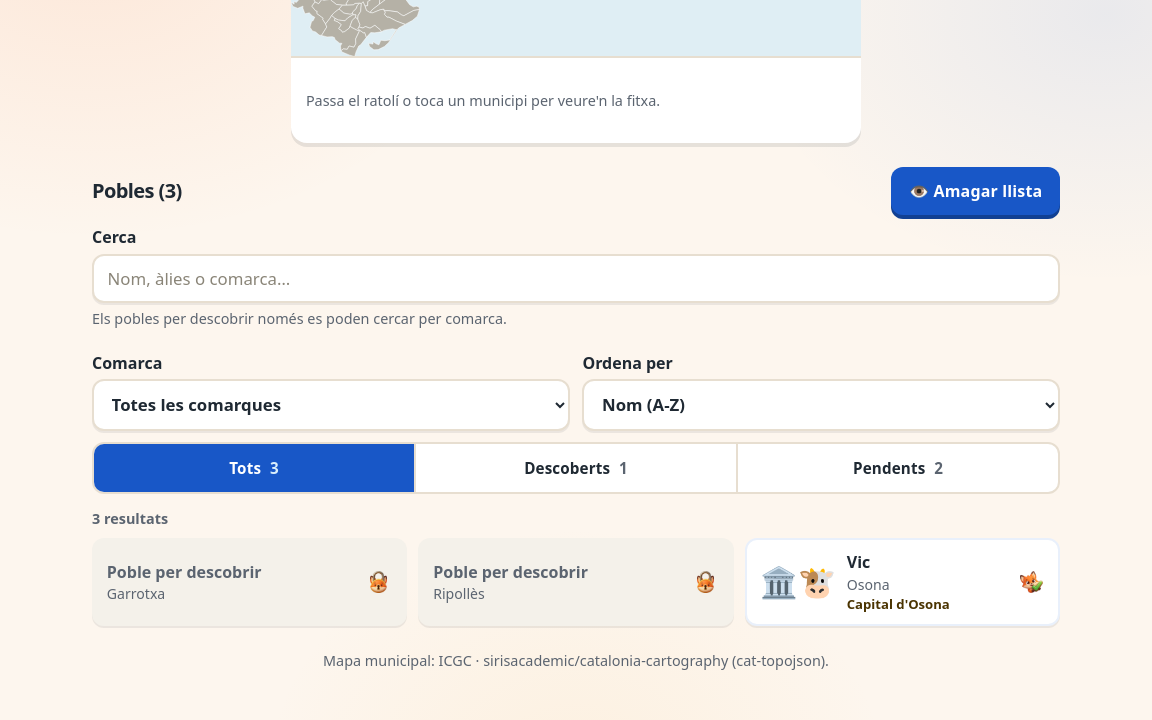
Test: Collection component › filtra per estat (Descoberts, Pendents, Tots)
(page scrolled)
Note: Filtre Descoberts
Click the button "Descoberts 1" at (577, 468), box top-left (416, 444), bottom-right (738, 492)
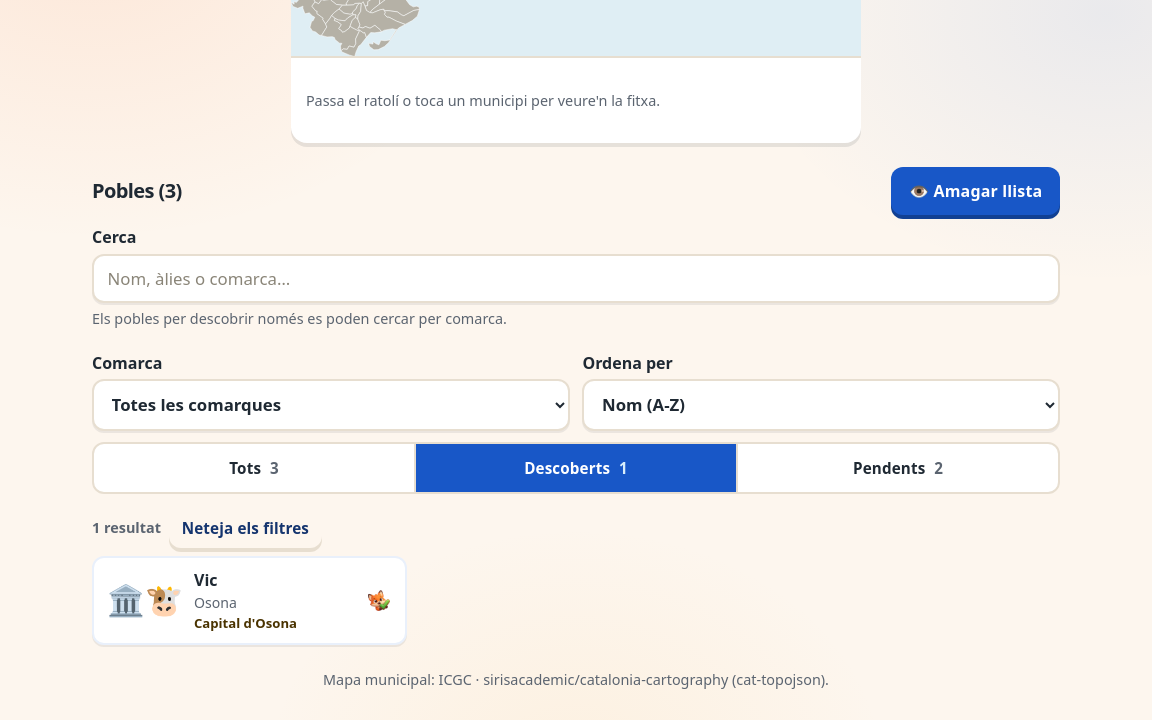
Expected: the text "Vic" is shown, top-left (194, 569), bottom-right (218, 591)
Expected: the text "Poble per descobrir" is gone
Note: Filtre Pendents
Click the button "Pendents 2" at (898, 468), box top-left (738, 444), bottom-right (1058, 492)
(page scrolled)
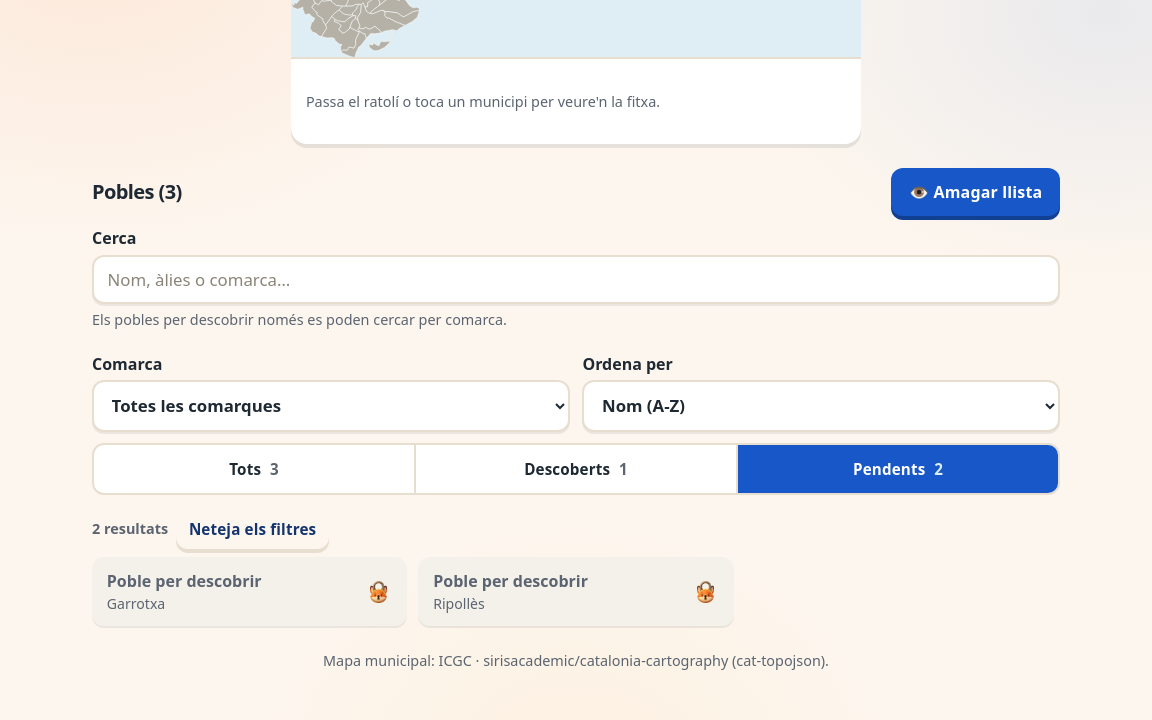
Expected: the text "Vic" is gone
Expected: the text "Poble per descobrir" is shown 2 times, top-left (107, 570), bottom-right (262, 592); top-left (433, 570), bottom-right (588, 592)
Note: Netejar filtres
Click the button "Neteja els filtres" at (253, 529), box top-left (176, 509), bottom-right (329, 549)
(page scrolled)
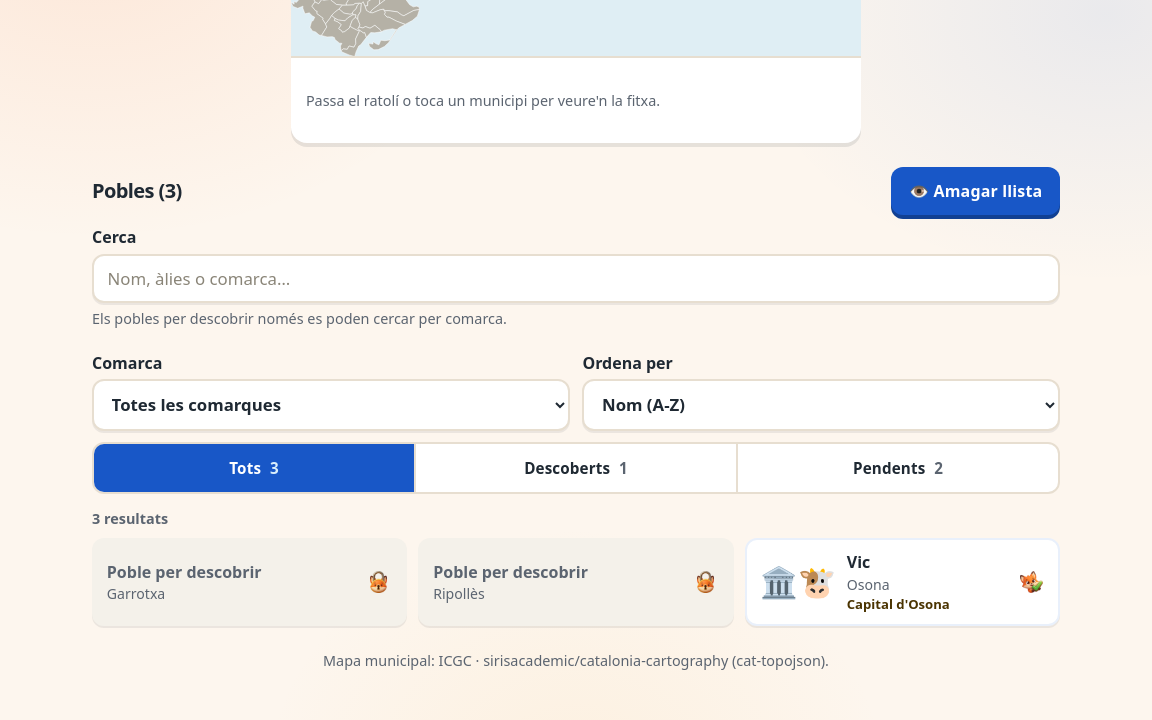
Expected: the text "Vic" is shown, top-left (847, 551), bottom-right (870, 573)
